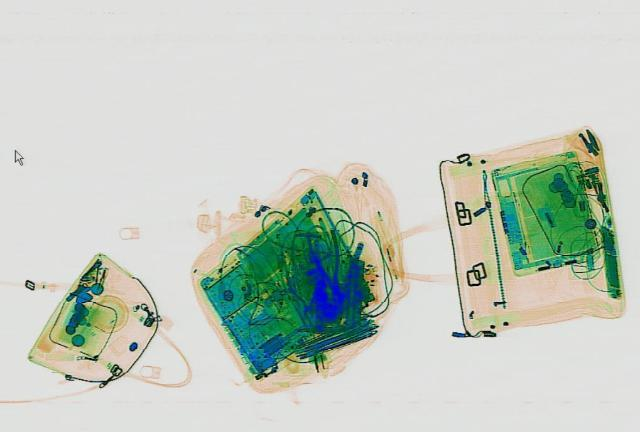Pliers: (302, 229, 351, 300), (281, 267, 327, 318)
